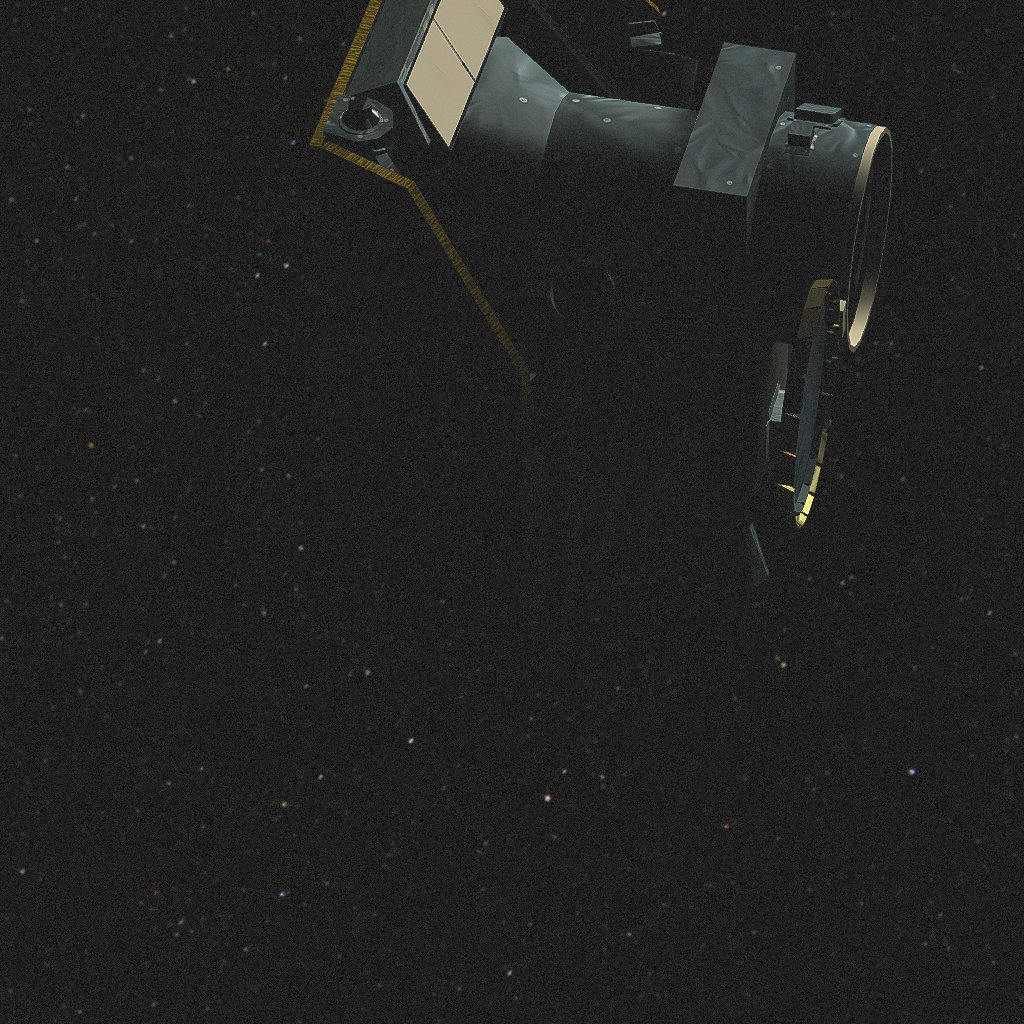cheops: (309, 0, 892, 638)
